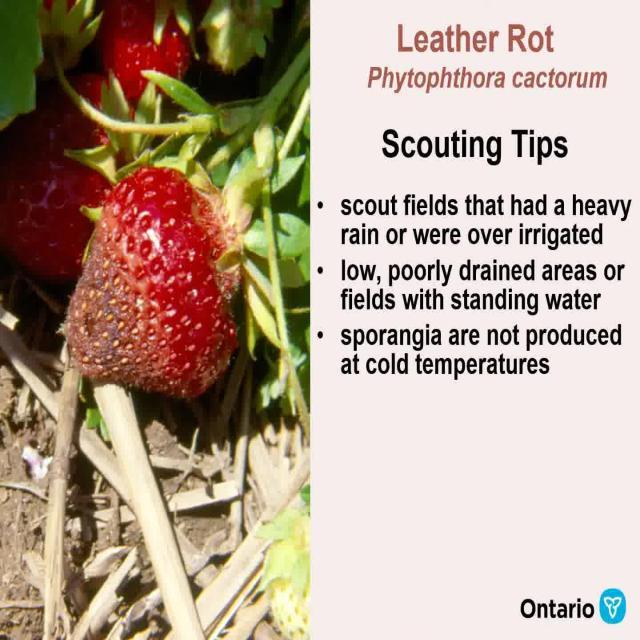Mancha negra Antracnosis: (46, 158, 248, 411)
